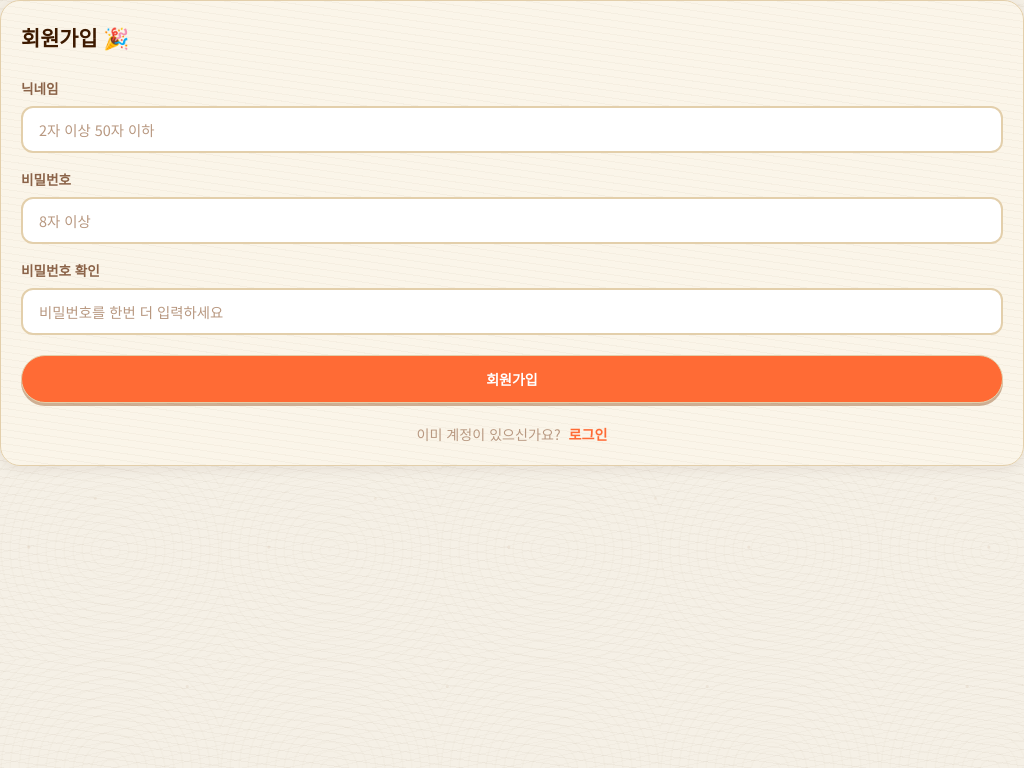
Scenario: 회원가입 페이지 › 닉네임이 1자이면 에러 메시지가 표시되고 제출되지 않는다
Type "a" into the field with placeholder "2자 이상 50자 이하" at (512, 130), box [21, 106, 1003, 153]
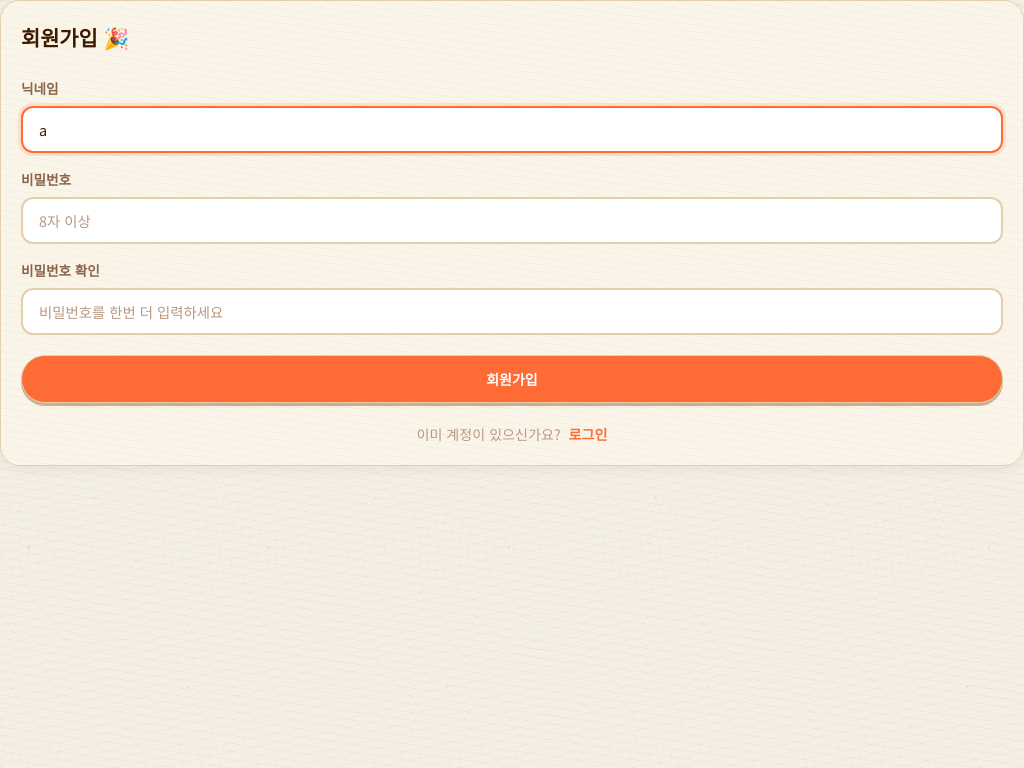
Type "password123" into the password field with placeholder "8자 이상" at (512, 220), box [21, 197, 1003, 244]
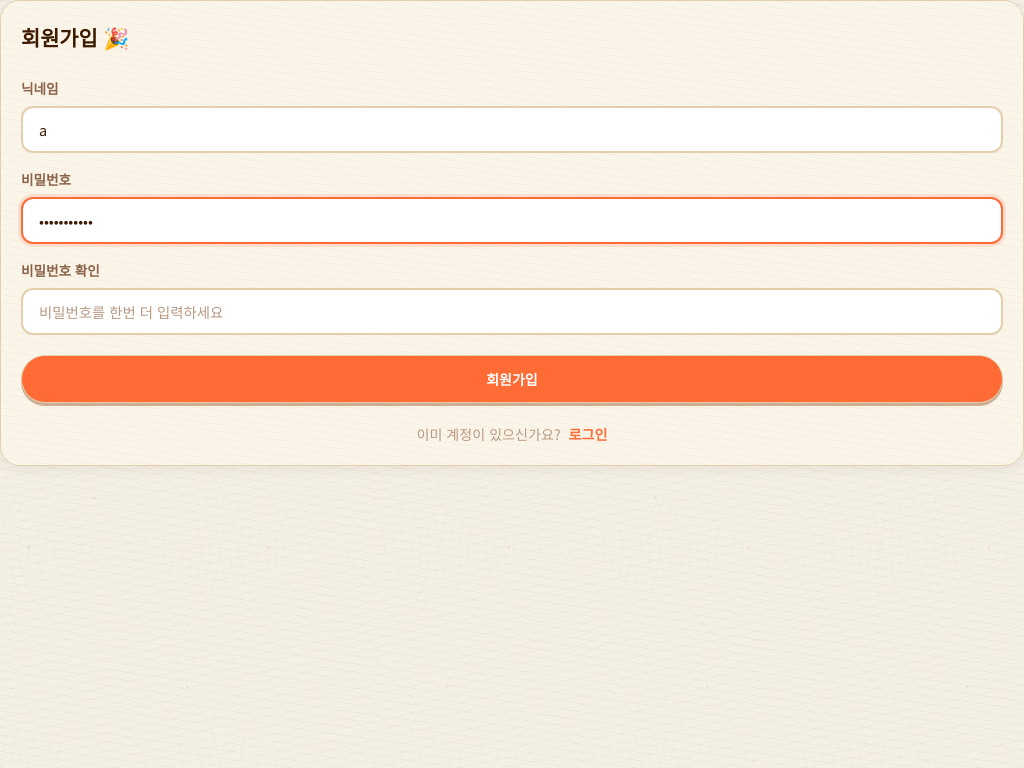
Type "password123" into the password field with placeholder "비밀번호를 한번 더 입력하세요" at (512, 311), box [21, 288, 1003, 334]
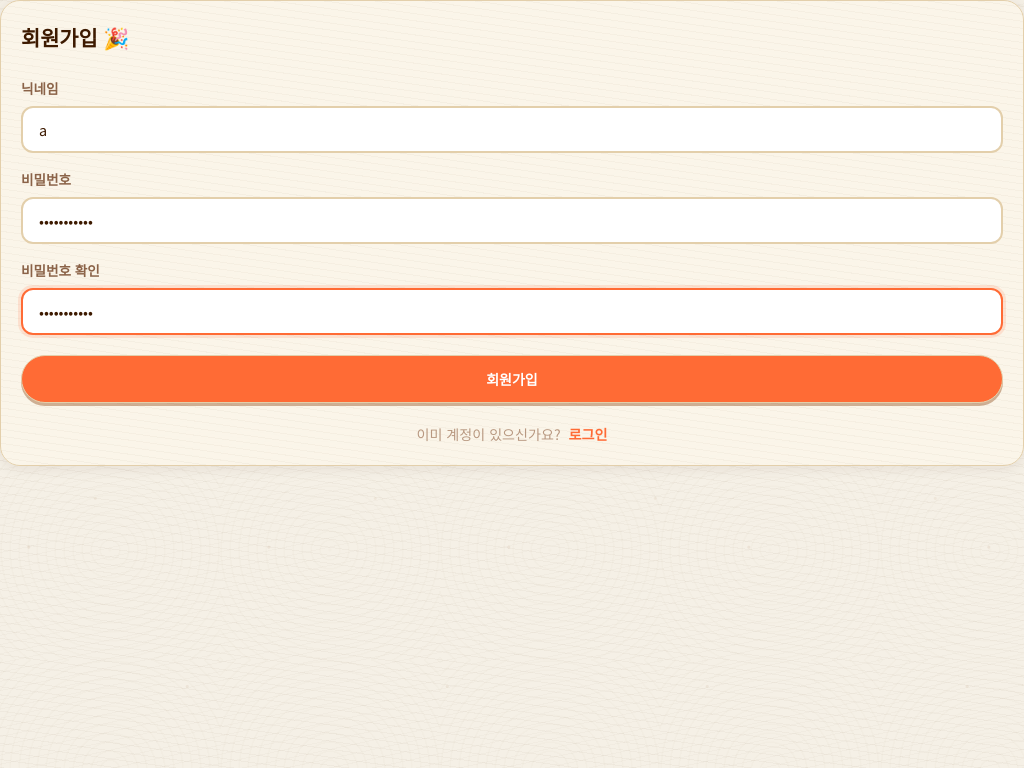
Click the button "회원가입" at (512, 379), box [21, 355, 1003, 403]
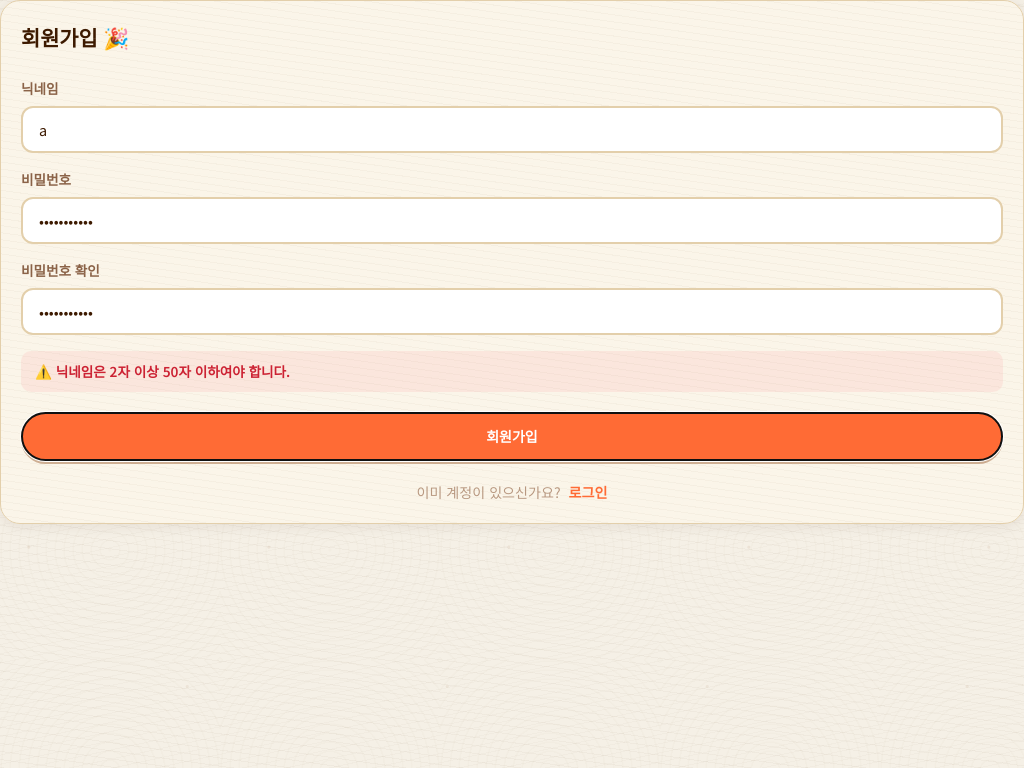
expect the text "⚠️ 닉네임은 2자 이상 50자 이하여야 합니다." is shown: met, box [21, 351, 1003, 392]
